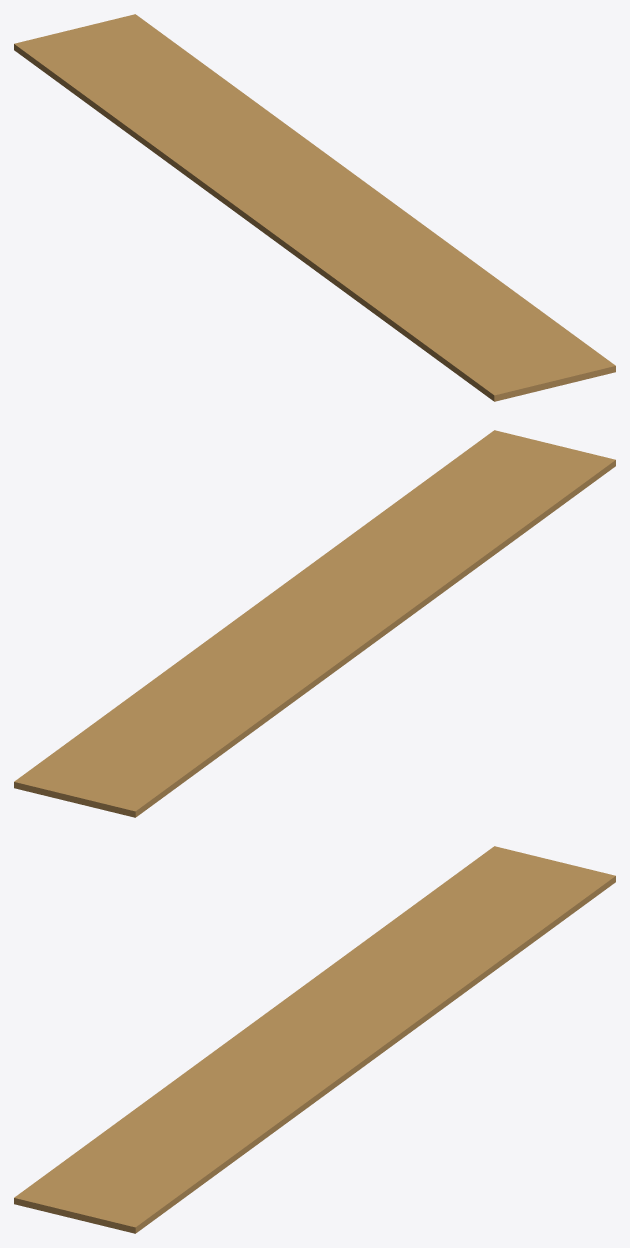
The model's file is Sidewalk.fbx.
3 renders of one model, top to bottom at view 1: azimuth 30°, elevation 25°; view 2: azimuth 150°, elevation 25°; view 3: azimuth 330°, elevation 25°, orthographic.
Parts seen in each view (by area): view 1: Plane.001; view 2: Plane.001; view 3: Plane.001.
Part boxes in pixels (box(x1,y1,x2,y2)): Plane.001: box(14, 14, 615, 401); Plane.001: box(14, 430, 615, 817); Plane.001: box(14, 846, 615, 1233).
Size of the model in its own units: 584 by 29.28 by 4000.
